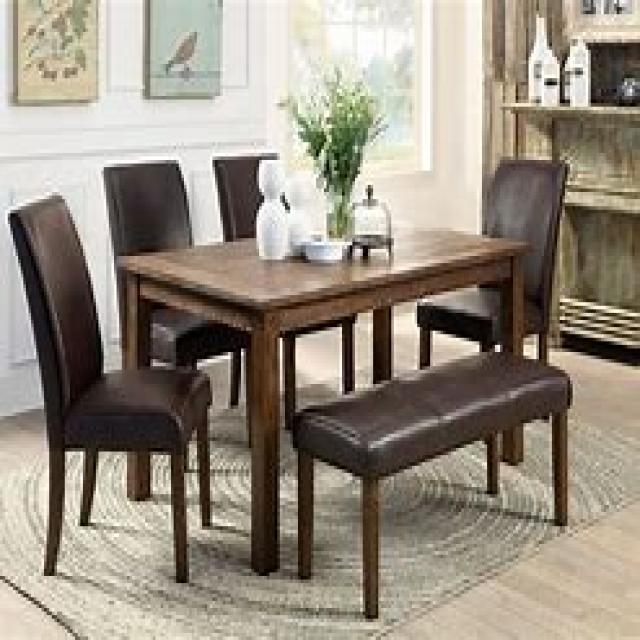chair: (5, 192, 213, 583), (101, 156, 249, 498), (210, 149, 357, 427)
table: (114, 220, 531, 572)
